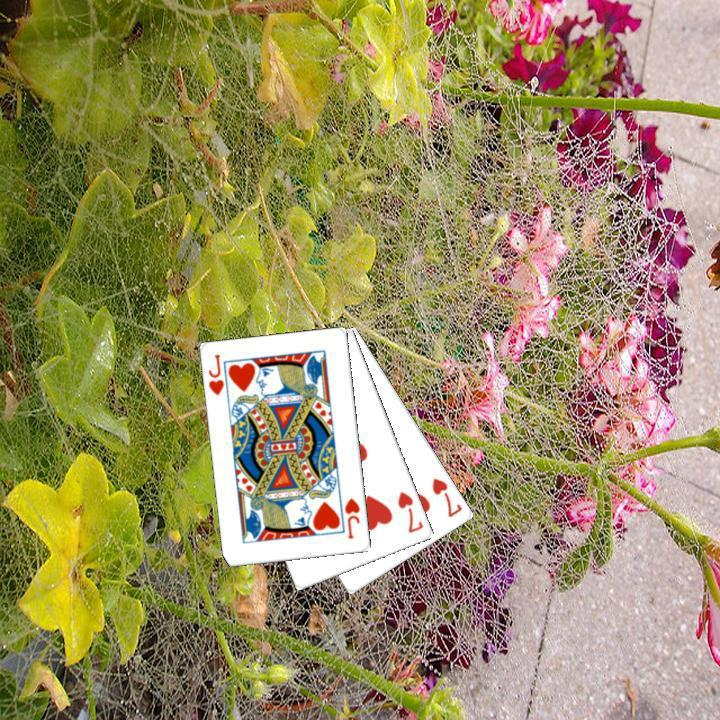7: (428, 473, 465, 520), (393, 487, 426, 535)
J: (204, 350, 226, 397), (341, 494, 362, 541)
